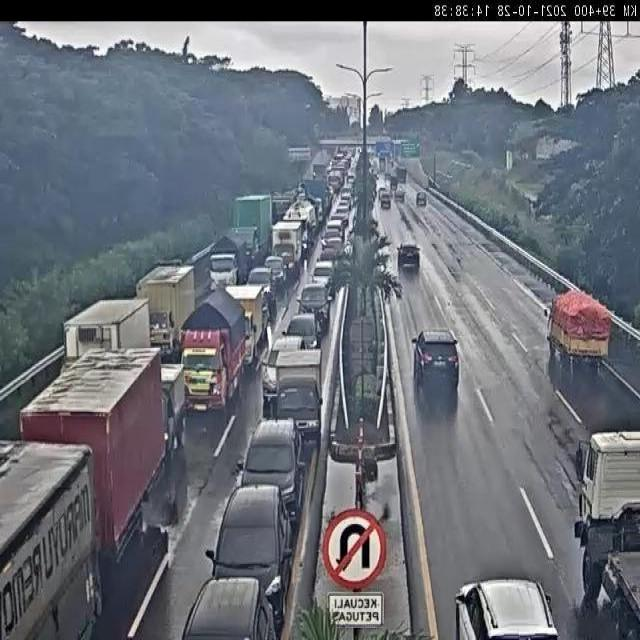Car: (206, 485, 293, 628), (455, 575, 564, 640), (237, 419, 304, 519), (180, 575, 280, 640), (260, 334, 308, 403), (412, 329, 461, 391), (296, 282, 333, 340), (285, 312, 321, 355), (246, 265, 278, 307), (264, 255, 287, 292), (312, 260, 334, 292), (397, 242, 421, 270), (324, 236, 345, 260), (316, 244, 338, 266), (320, 228, 341, 250), (324, 218, 344, 240), (379, 190, 392, 210), (395, 188, 406, 203), (416, 192, 426, 206), (387, 158, 395, 172)
Truck: (18, 346, 166, 572), (1, 438, 102, 638), (570, 416, 640, 640), (178, 290, 251, 418), (264, 344, 326, 446), (62, 298, 150, 366), (546, 290, 612, 379), (139, 263, 200, 354), (224, 284, 273, 374), (228, 194, 274, 261), (160, 362, 187, 463), (208, 234, 252, 286), (271, 219, 307, 281), (282, 198, 318, 258), (301, 179, 329, 227), (271, 192, 295, 227), (395, 166, 407, 183), (390, 175, 398, 191), (378, 156, 386, 172)
